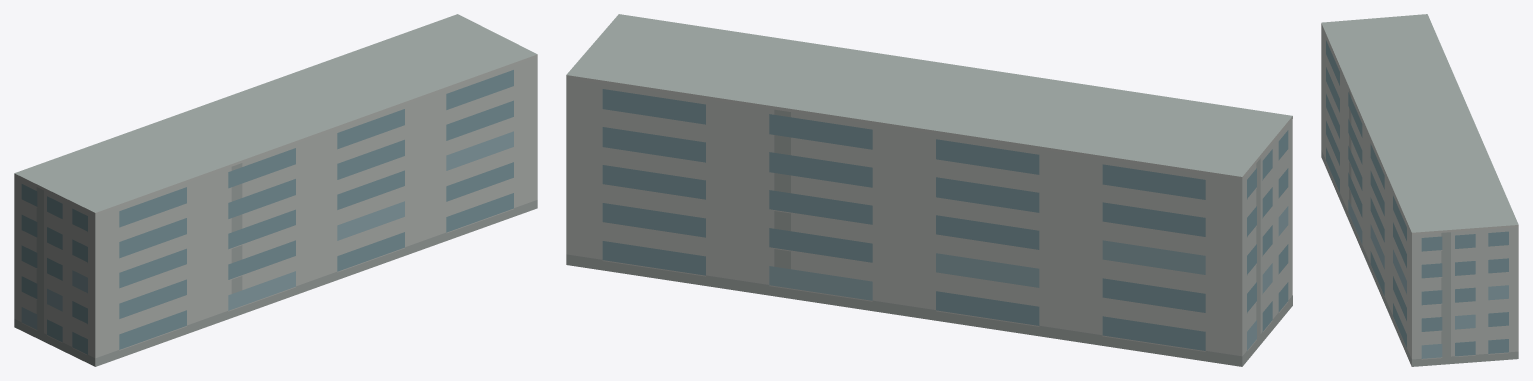
File: survey-upis-32837418.glb
The picture shows the model from 3 angles, left to right: view 1: azimuth 30°, elevation 25°; view 2: azimuth 150°, elevation 25°; view 3: azimuth 270°, elevation 25°; orthographic projection. The views are drawn at different scales.
Visible parts, largest first — view 1: survey-upis-32837418.tmp; view 2: survey-upis-32837418.tmp; view 3: survey-upis-32837418.tmp.
Boxes of the visible parts, <box> form: survey-upis-32837418.tmp: <box>14,14,537,366</box>; survey-upis-32837418.tmp: <box>566,14,1292,366</box>; survey-upis-32837418.tmp: <box>1321,14,1518,366</box>.
Bounding box in the file's own units: 50.02 × 14.3 × 19.09.
